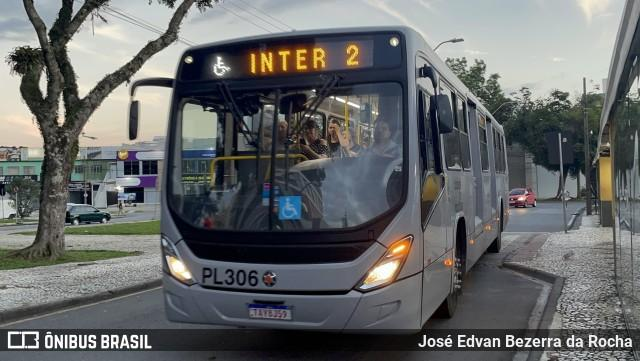INTER 2: (244, 40, 365, 78)
